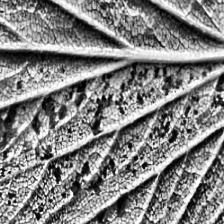Angular Leafspot: (0, 19, 224, 224)
